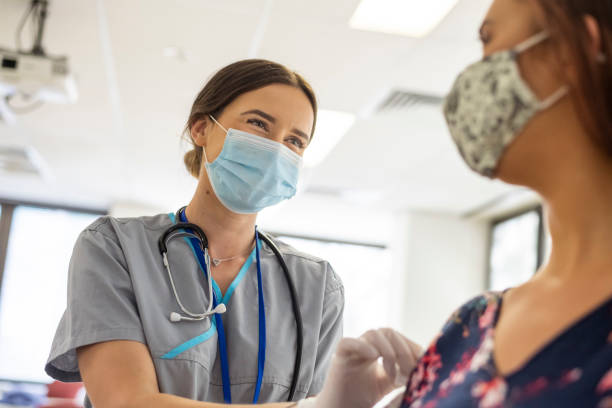with mask: (440, 3, 583, 186), (189, 62, 307, 213)
